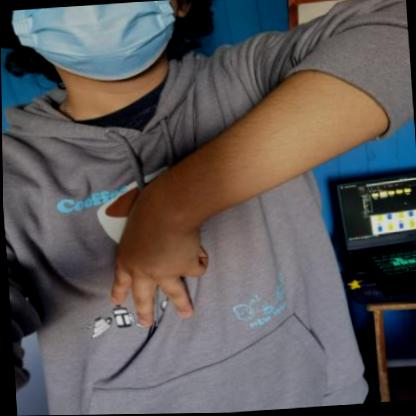M: (81, 190, 242, 334)
